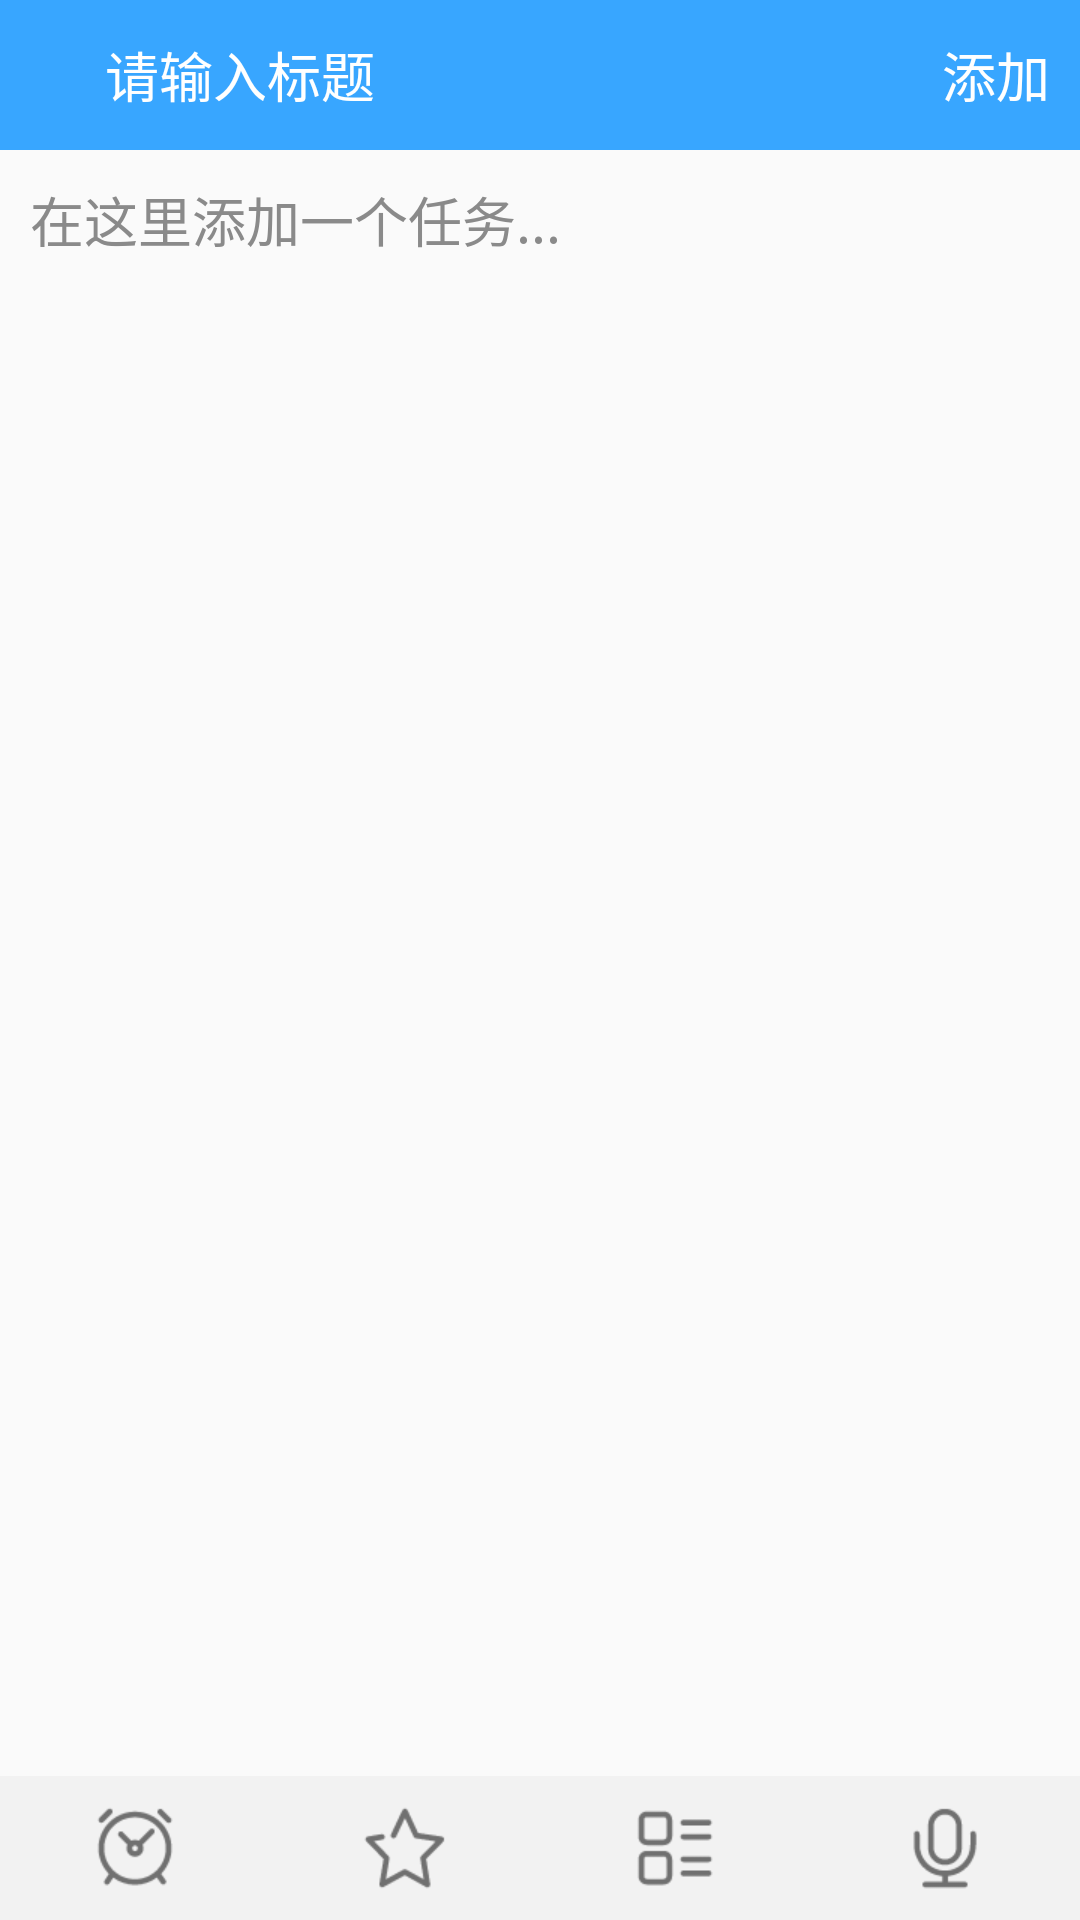

Screen size 1080x1920. Icon name, then its center in pixels as (x=x, y=y):
favor: (x=404, y=1848)
list: (x=675, y=1848)
remind: (x=135, y=1847)
voice: (x=945, y=1848)
